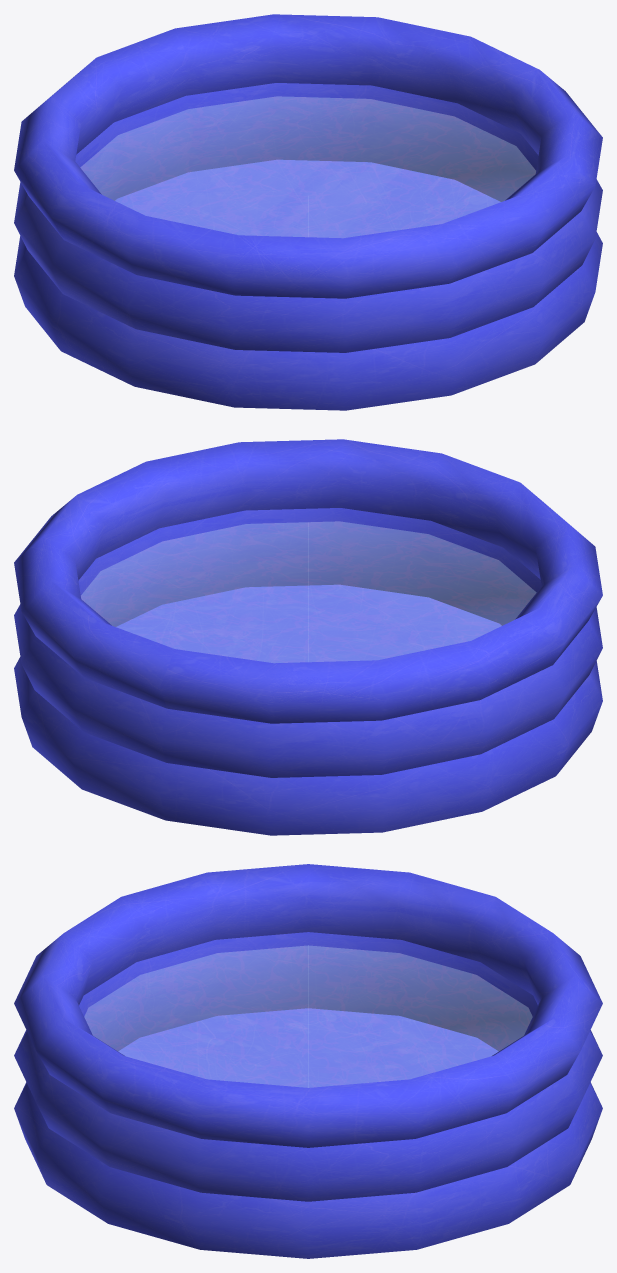
File: PetPool.glb
3 renders of one model, top to bottom at view 1: azimuth 30°, elevation 25°; view 2: azimuth 150°, elevation 25°; view 3: azimuth 270°, elevation 25°, orthographic.
Visible parts, largest first — view 1: PetPool; view 2: PetPool; view 3: PetPool.
Part boxes in pixels (x1=…): PetPool: x1=14, y1=14, x2=602, y2=410; PetPool: x1=14, y1=439, x2=602, y2=835; PetPool: x1=14, y1=864, x2=602, y2=1258.
Size of what is drawn, in the model's own units: 2.29 by 0.6989 by 2.29.
2 materials, 1 textured.
